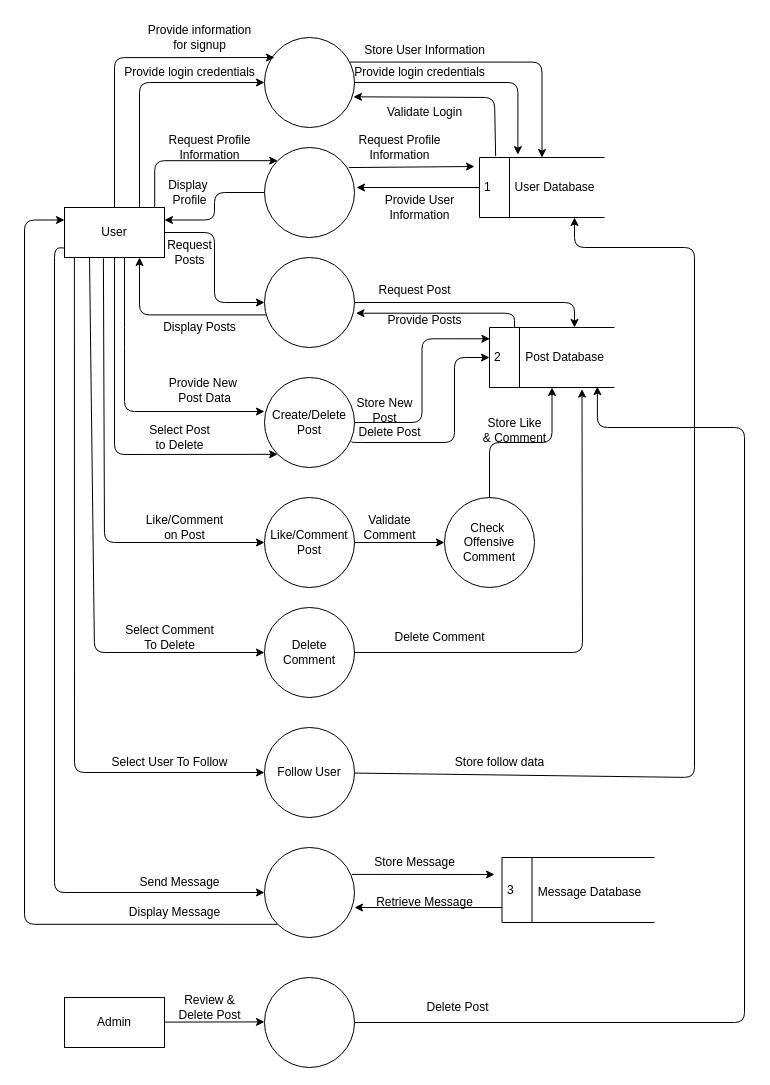
Image size: 770x1085. Some labels were removed from this diagram. The box of each missing label's shape, as (x1, y1, x2, y2) in pixels:
Admin Portal: (264, 976, 354, 1068)
Login/Signup System: (264, 36, 354, 128)
Message Users: (264, 846, 354, 938)
View Post: (264, 256, 354, 348)
View Profile: (264, 146, 354, 238)
